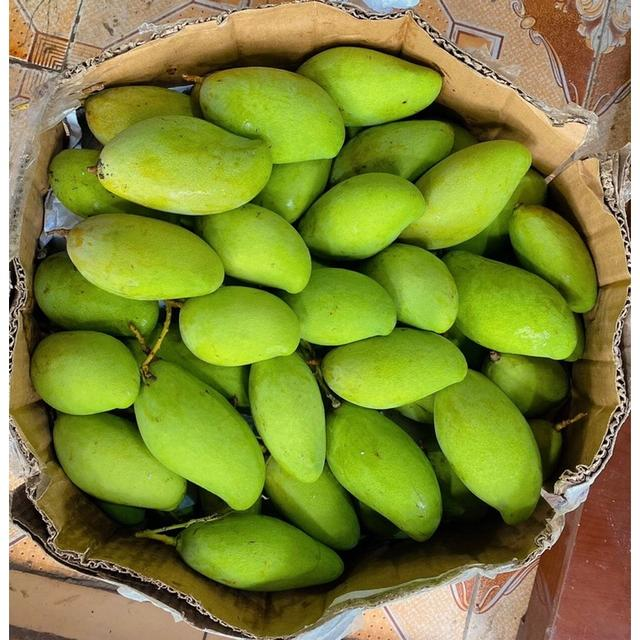xoai: (135, 360, 267, 511), (92, 116, 272, 213), (445, 243, 582, 364), (326, 400, 441, 543), (435, 371, 540, 523), (410, 138, 534, 255), (66, 212, 227, 301), (199, 69, 345, 163), (50, 412, 189, 509), (176, 513, 345, 589), (289, 48, 443, 128), (323, 330, 466, 408), (298, 171, 423, 258), (204, 202, 312, 296), (180, 285, 300, 364), (510, 204, 597, 312), (249, 362, 326, 482), (28, 333, 139, 413)
